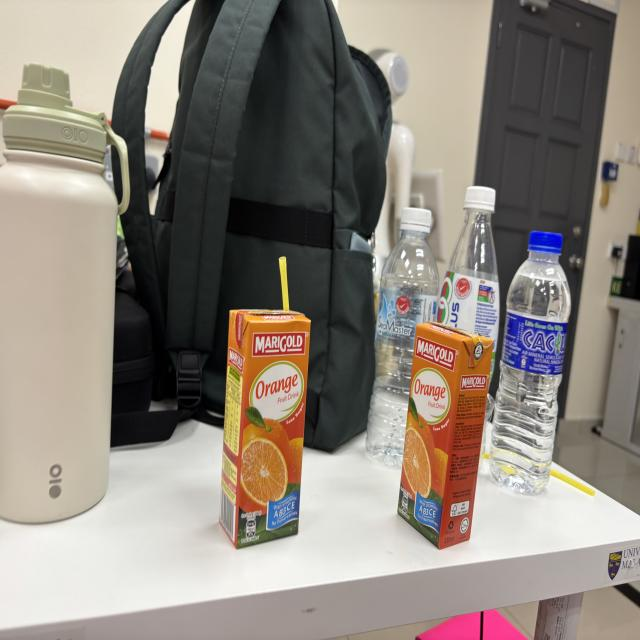drink_carton: (206, 248, 326, 558), (392, 309, 497, 559)
plastic_bottle: (478, 221, 580, 507), (429, 184, 506, 493), (364, 193, 444, 480)
